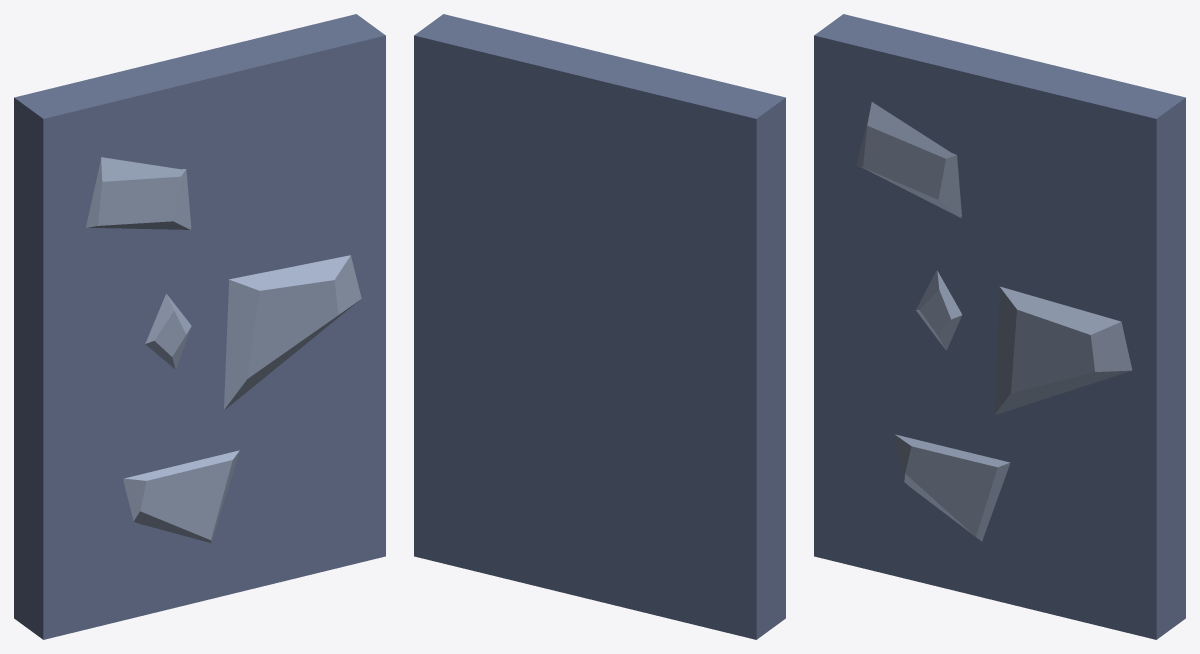
File: muro simple 5.fbx
3 views of the same model, side by side, from view 1: azimuth 30°, elevation 25°; view 2: azimuth 150°, elevation 25°; view 3: azimuth 330°, elevation 25° (orthographic).
Parts seen in each view (by area): view 1: smooth wall.004; view 2: smooth wall.004; view 3: smooth wall.004.
Boxes of the visible parts, box(x1,y1,x2,y2) form: smooth wall.004: box(14, 14, 385, 639); smooth wall.004: box(414, 14, 785, 639); smooth wall.004: box(814, 14, 1185, 639).
Bounding box in the file's own units: 211 × 306 × 38.99.
